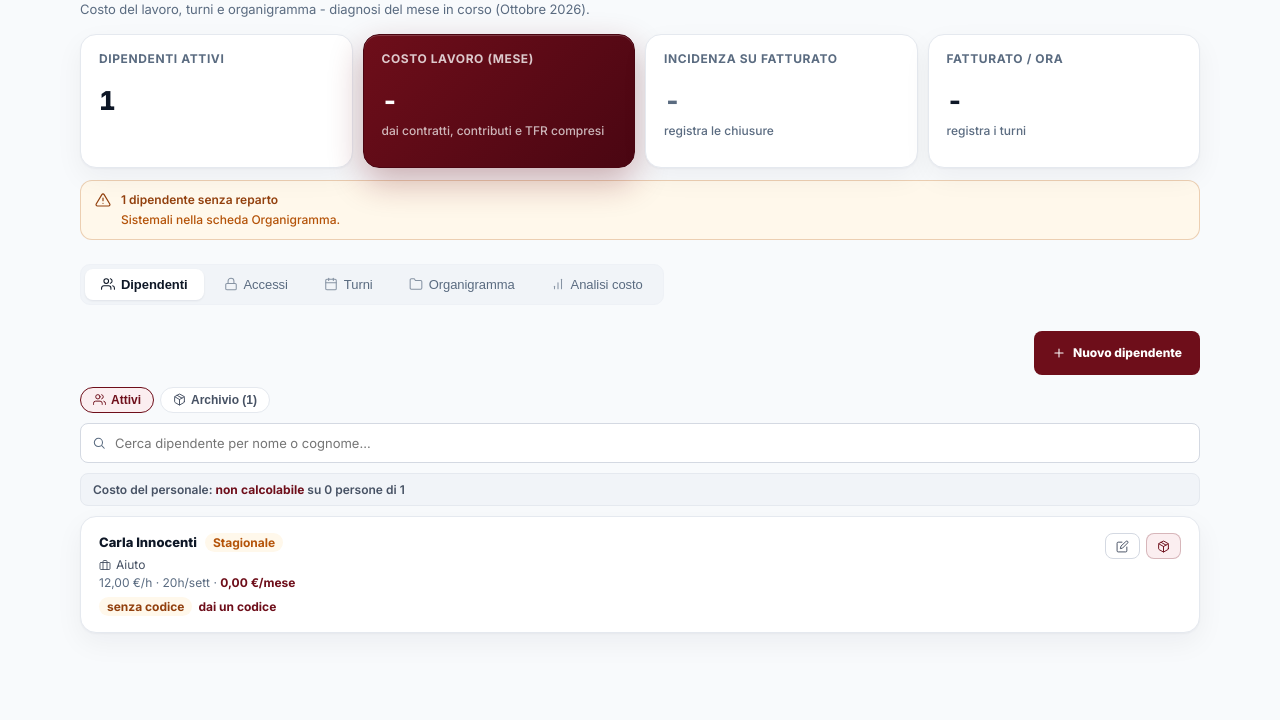
it: Quello che non deve succedere › e con zero turni non dice «0 turni», dice che non ce ne sono
The width and height of the screenshot is (1280, 720).
Click the button "Archivio (1)": (215, 400) [160,386,270,412]
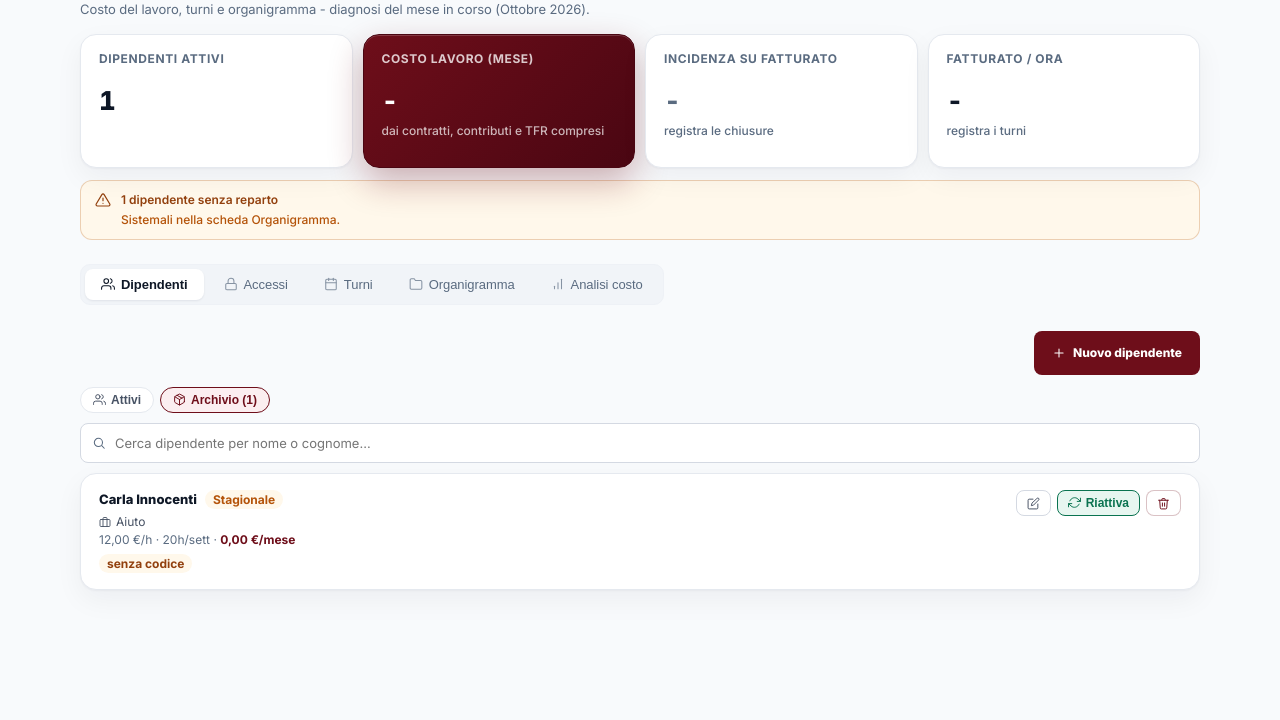
Expected: the text "Carla Innocenti" is shown, [99,491,197,507]
Click the button named "Elimina definitivamente Carla Innocenti": (1164, 502) [1146,490,1181,516]
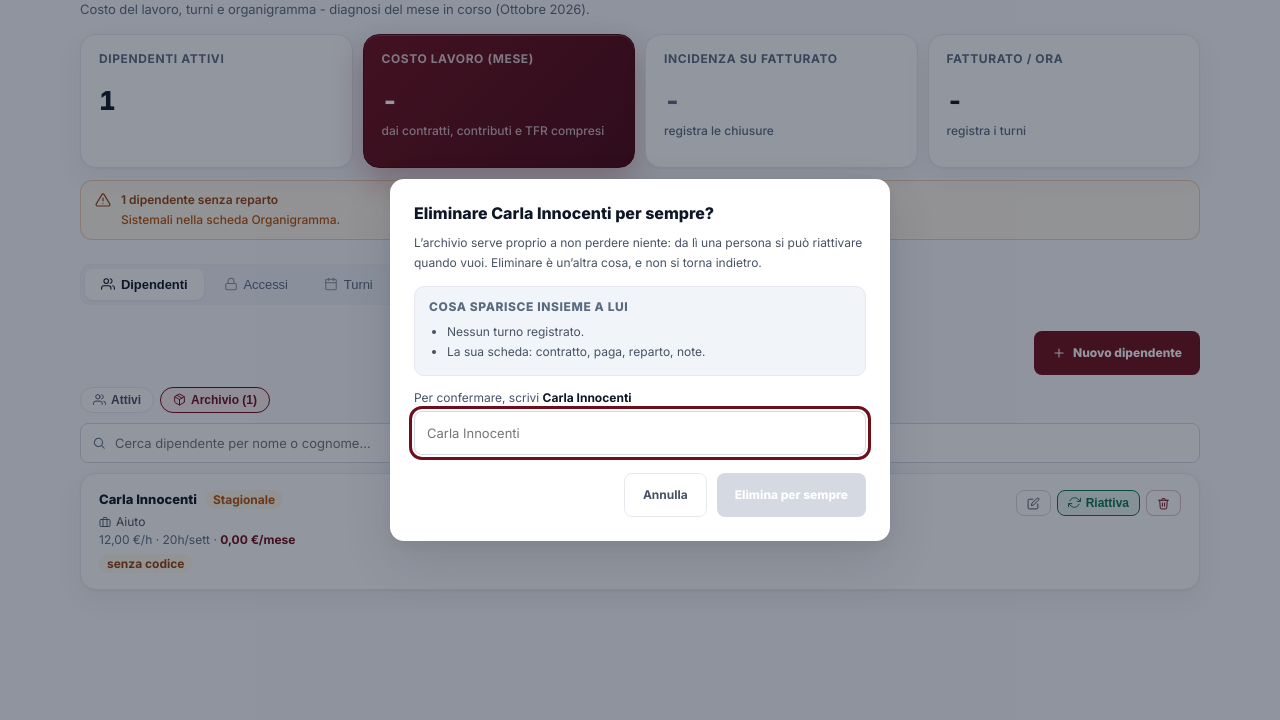
Expected: the text "Nessun turno registrato" is shown, [447,324,584,339]
